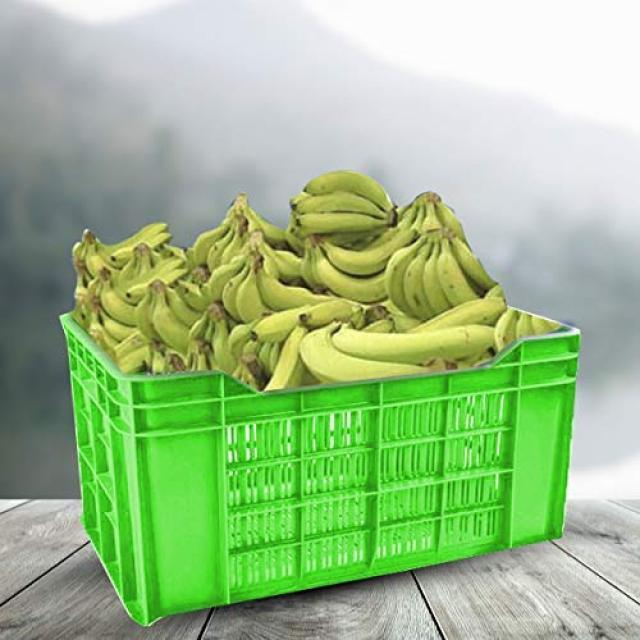basket: (56, 315, 581, 635)
